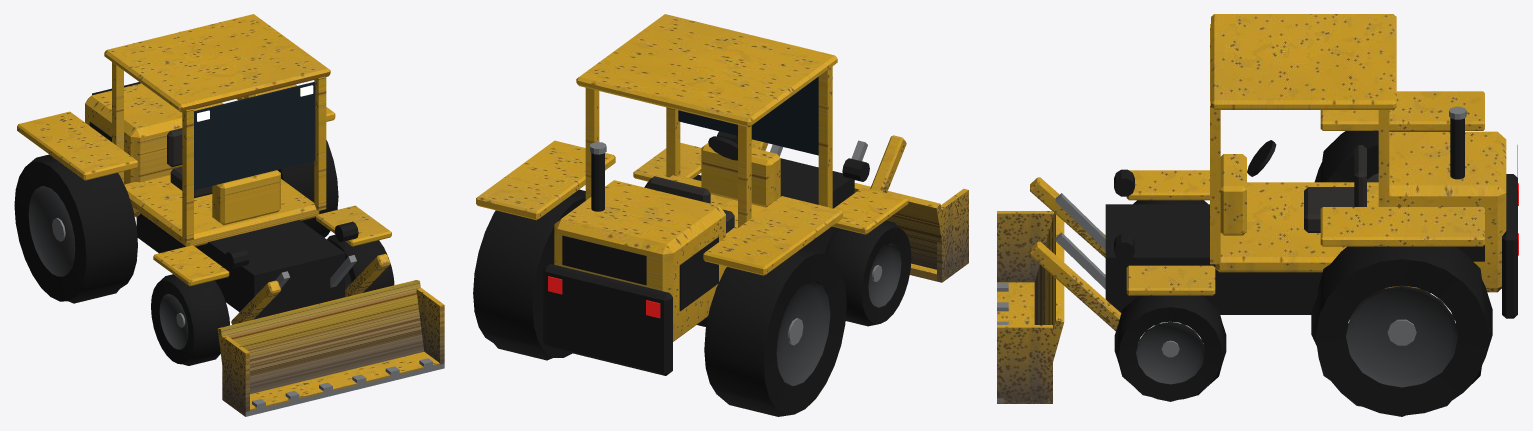
Rendered from tractor-shovel.glb.
3 renders of one model, left to right at view 1: azimuth 30°, elevation 25°; view 2: azimuth 150°, elevation 25°; view 3: azimuth 270°, elevation 25°, orthographic. The views are drawn at different scales.
Parts seen in each view (by area): view 1: body, shovel, wheel-back-right, wheel-front-right, wheel-back-right.1, wheel-back-left, wheel-front-left, wheel-front-right.1; view 2: body, wheel-back-right, wheel-back-left, shovel, wheel-front-right, wheel-back-right.1, wheel-front-right.1; view 3: body, wheel-back-left, shovel, wheel-back-left.1, wheel-front-left, wheel-front-left.1, wheel-back-right.
Boxes of the visible parts, left/top/right/bottom form: body: left=17, top=14, right=391, bottom=319; shovel: left=217, top=221, right=444, bottom=416; wheel-back-right: left=14, top=154, right=137, bottom=303; wheel-front-right: left=151, top=274, right=229, bottom=365; wheel-back-right.1: left=28, top=186, right=75, bottom=276; wheel-back-left: left=277, top=140, right=338, bottom=237; wheel-front-left: left=327, top=235, right=394, bottom=292; wheel-front-right.1: left=159, top=294, right=188, bottom=349; body: left=476, top=14, right=908, bottom=375; wheel-back-right: left=704, top=245, right=846, bottom=416; wheel-back-left: left=473, top=189, right=585, bottom=360; shovel: left=717, top=131, right=968, bottom=282; wheel-front-right: left=825, top=220, right=911, bottom=326; wheel-back-right.1: left=776, top=281, right=830, bottom=385; wheel-front-right.1: left=868, top=243, right=901, bottom=307; body: left=1105, top=14, right=1518, bottom=318; wheel-back-left: left=1311, top=246, right=1492, bottom=416; shovel: left=997, top=169, right=1134, bottom=403; wheel-back-left.1: left=1346, top=285, right=1458, bottom=387; wheel-front-left: left=1114, top=295, right=1226, bottom=401; wheel-front-left.1: left=1136, top=321, right=1204, bottom=384; wheel-back-right: left=1314, top=131, right=1450, bottom=293.
Size of the model in its own units: 1.66 by 1.51 by 2.48.
9 materials, 1 textured.
